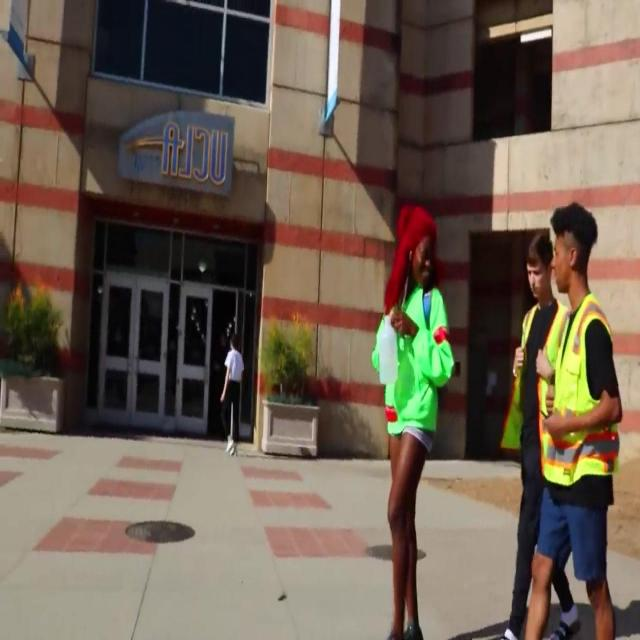Reflective-Jacket: (533, 290, 630, 500), (497, 296, 568, 486)
